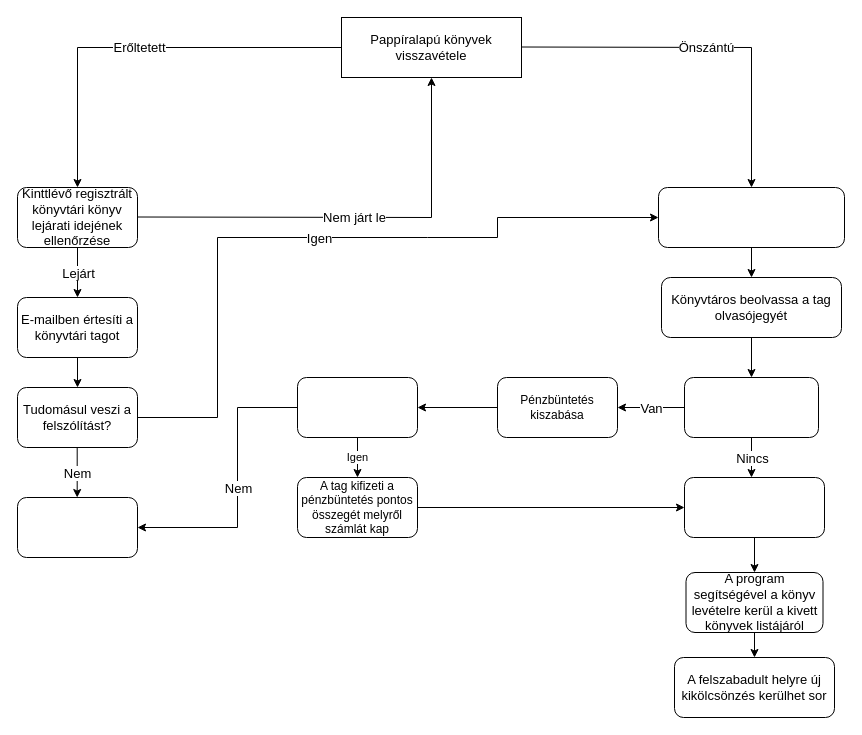
Some shapes in this 862 by 735 pixel diagram are drawn without their labels. The shapes that lost their labels are listed below. From the top down, each one's centre as x and y in pixels, then its label:
the point at 751,217: Regisztrált könyvtári tag, regisztrált pappíralapú könyvvel érkezik
the point at 357,407: A tag tudomásul veszi?
the point at 751,407: Ellenőrzi, hogy van-e lejárt könyv a tagnál
the point at 77,527: *Feljelentés a taggal szemben
the point at 754,507: Könyvtáros beolvassa a visszahozott könyvet vonalkód segítségével
